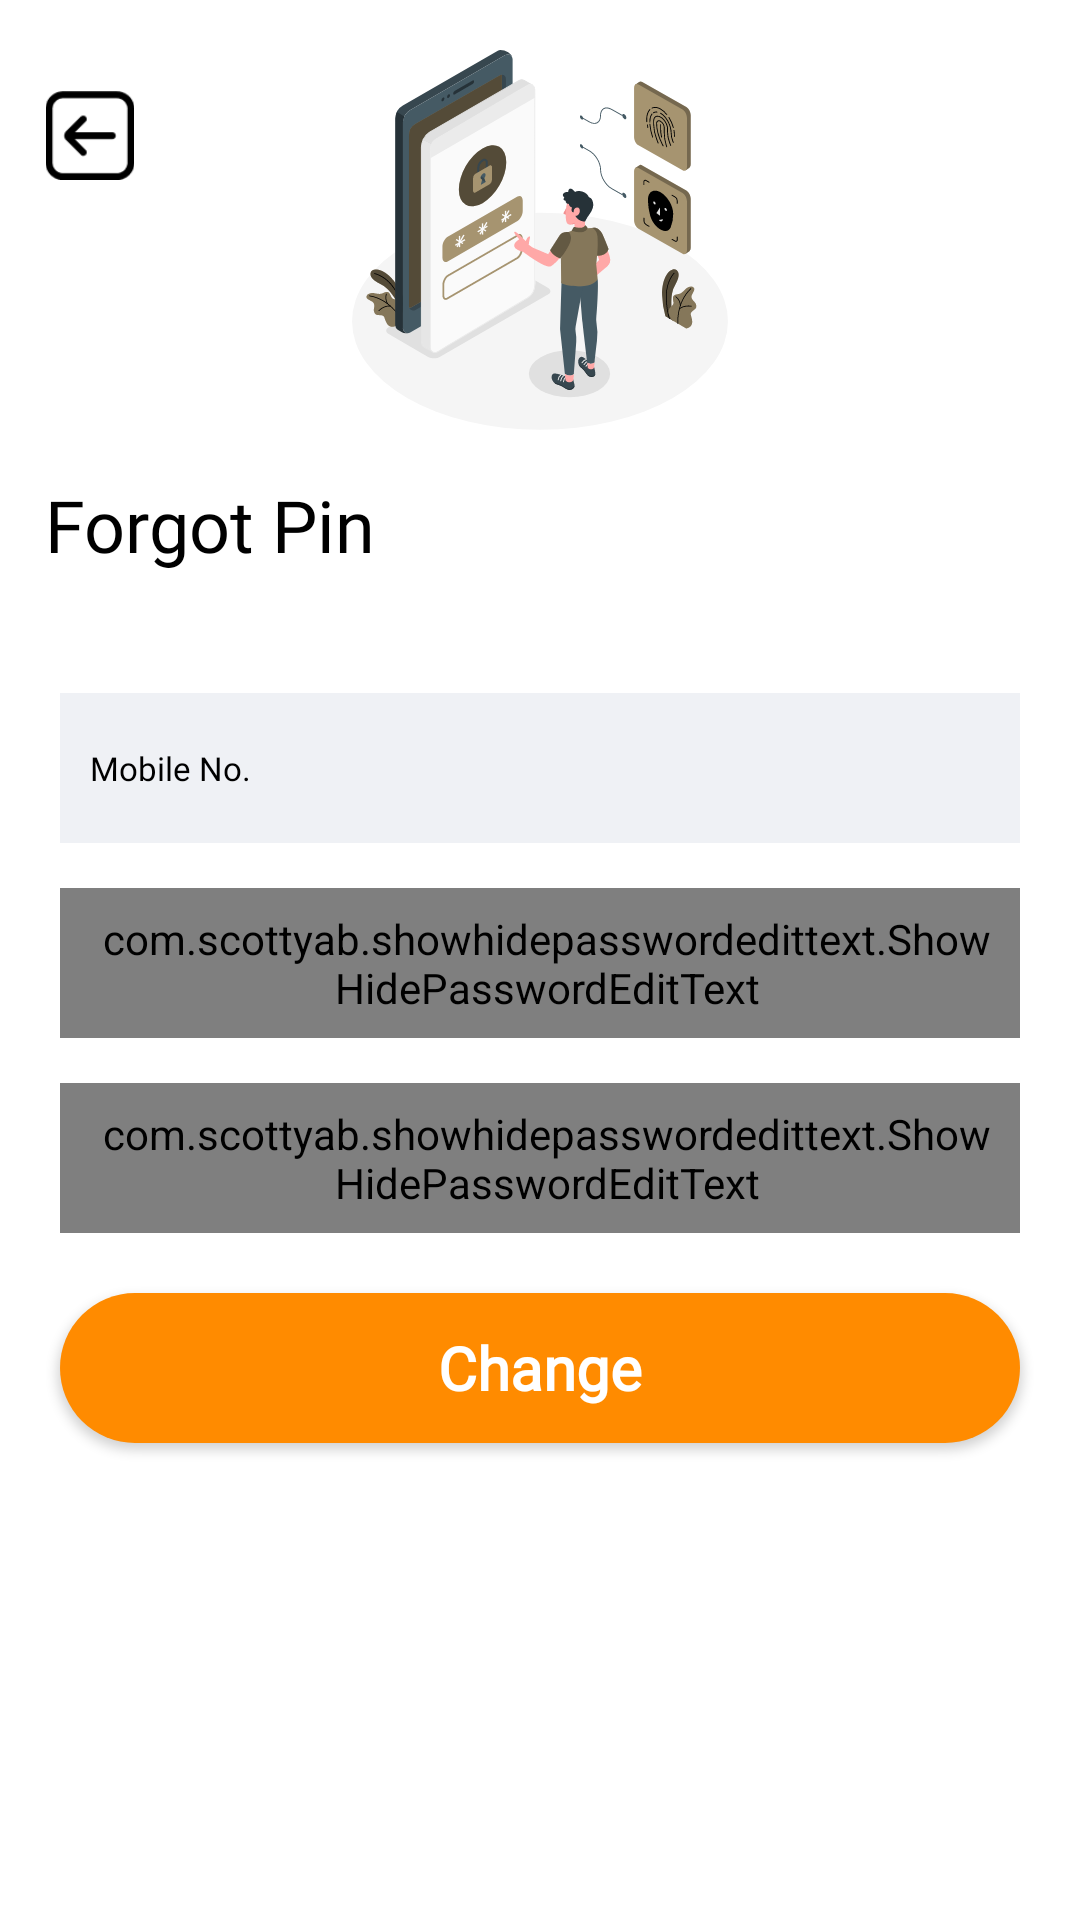

Point at icon controls on the screen. Image size 1080w x 1920h, points as [x,y].
back box: [90,135]
